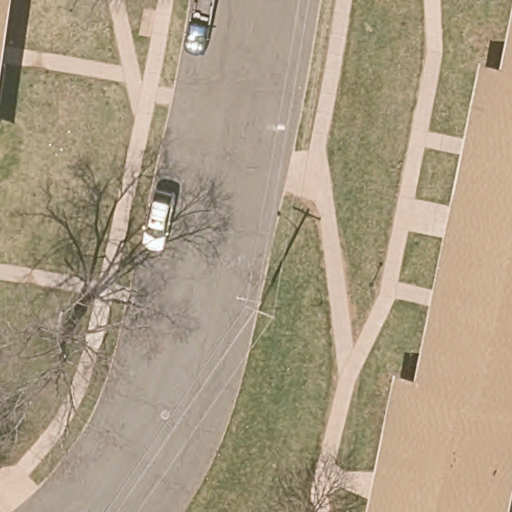DT: (235, 267, 281, 319)
